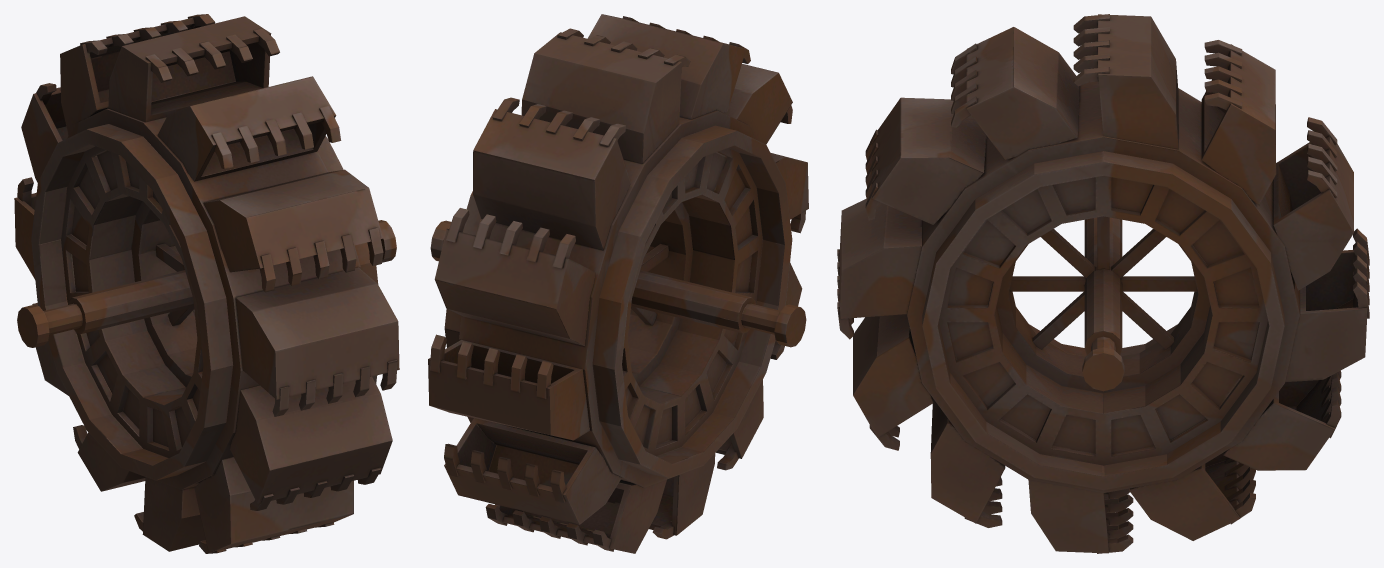
The model's file is AutoMinerMk1.glb.
3 views of the same model, side by side, from view 1: azimuth 30°, elevation 25°; view 2: azimuth 150°, elevation 25°; view 3: azimuth 270°, elevation 25° (orthographic).
Visible parts, largest first — view 1: t1minerwheel; view 2: t1minerwheel; view 3: t1minerwheel.
Boxes of the visible parts, x1=… form: t1minerwheel: x1=14, y1=14, x2=399, y2=553; t1minerwheel: x1=428, y1=14, x2=808, y2=553; t1minerwheel: x1=837, y1=14, x2=1369, y2=553.
Bounding box in the file's own units: 1.89 × 2.41 × 2.41.
1 material, 1 textured.
